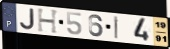4: (133, 17, 153, 44)
5: (66, 11, 83, 36)
6: (88, 14, 105, 38)
H: (37, 8, 60, 35)
I: (113, 16, 120, 40)
J: (19, 8, 36, 31)
